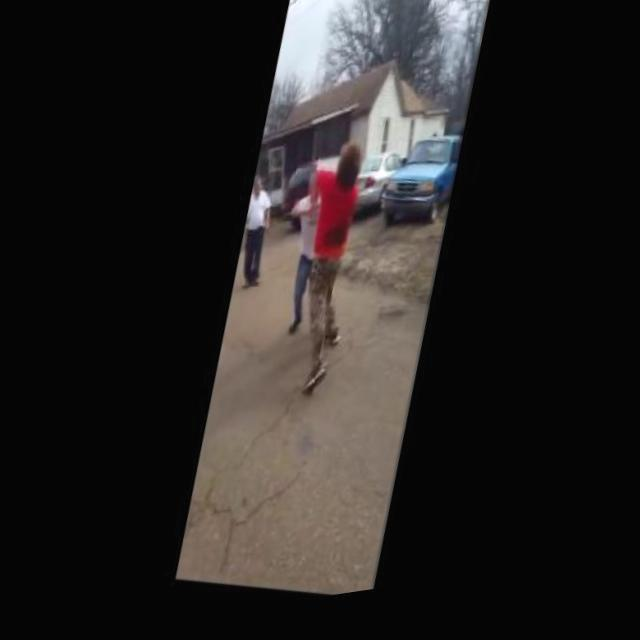fight: (249, 145, 392, 412)
